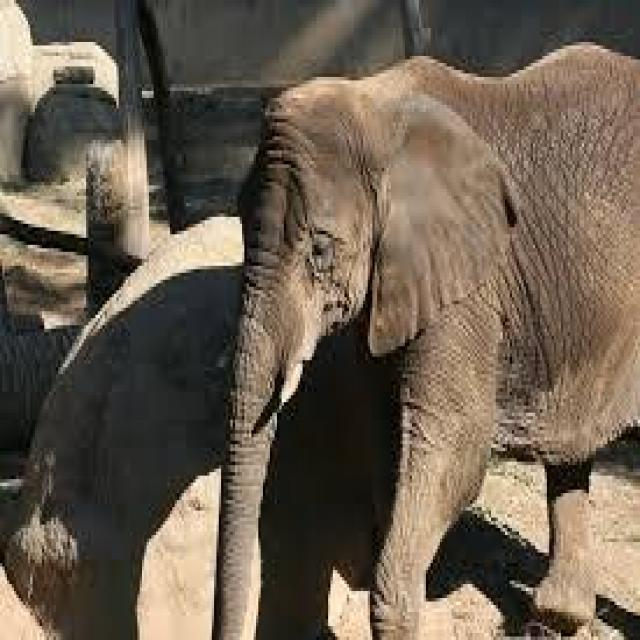Elephant: (214, 42, 638, 626)
